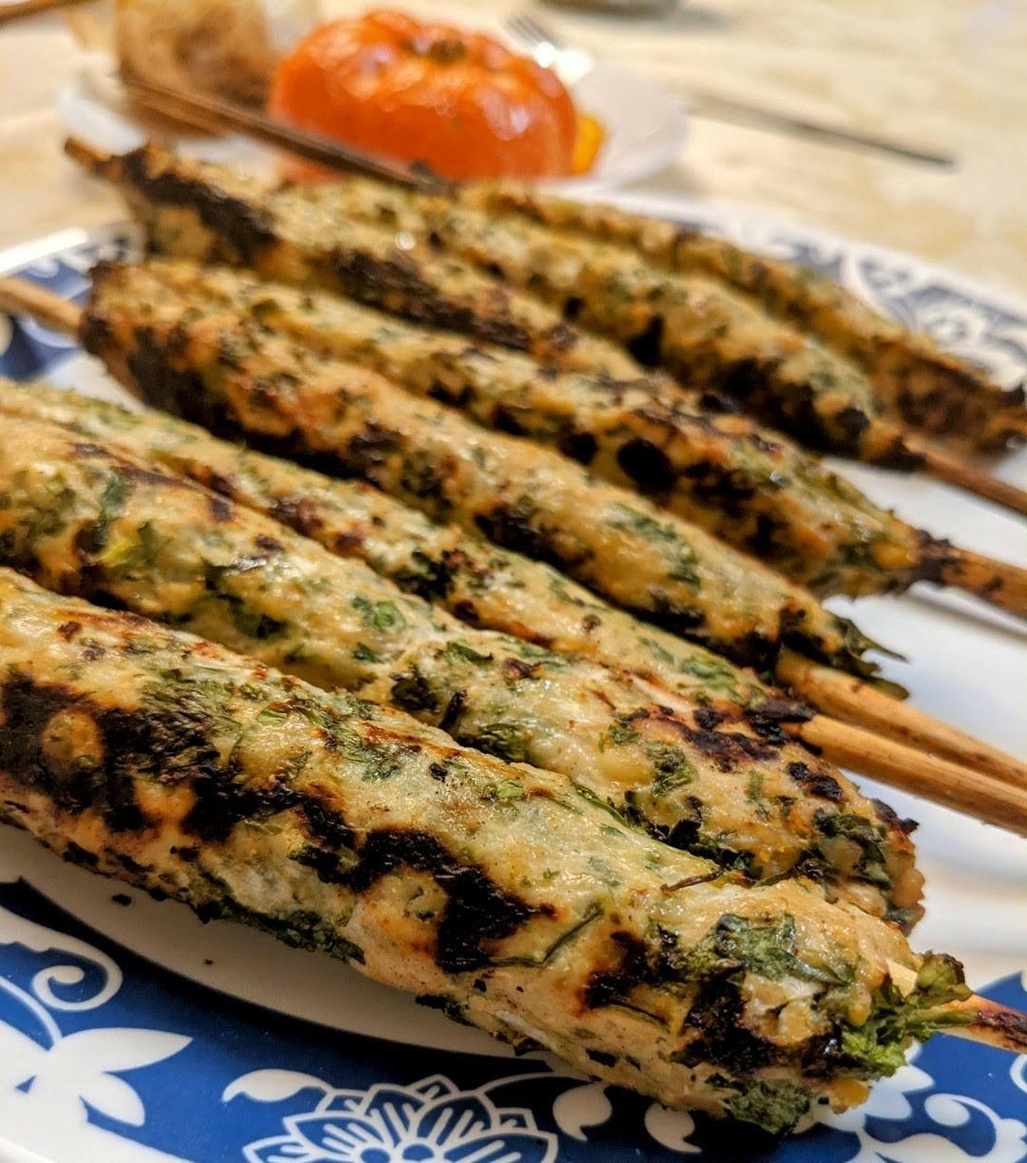Kebab: (1, 384, 974, 922), (11, 615, 907, 1133), (17, 339, 929, 789), (77, 228, 872, 694), (109, 120, 1002, 431)
